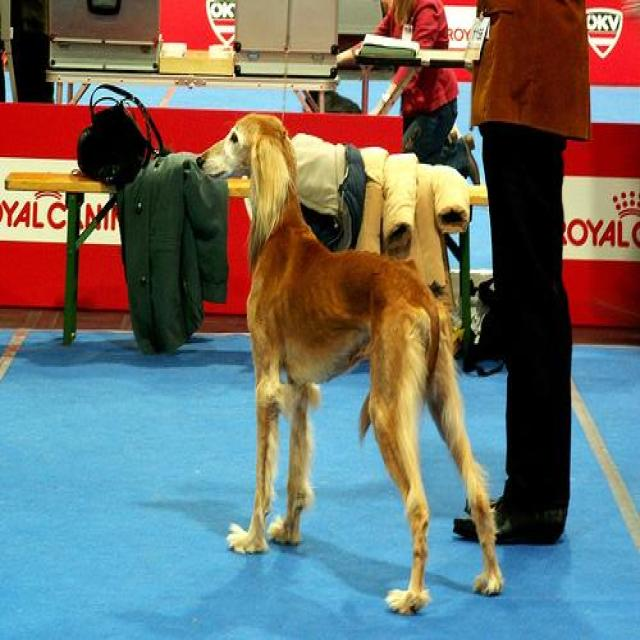saluki: (192, 110, 506, 614)
